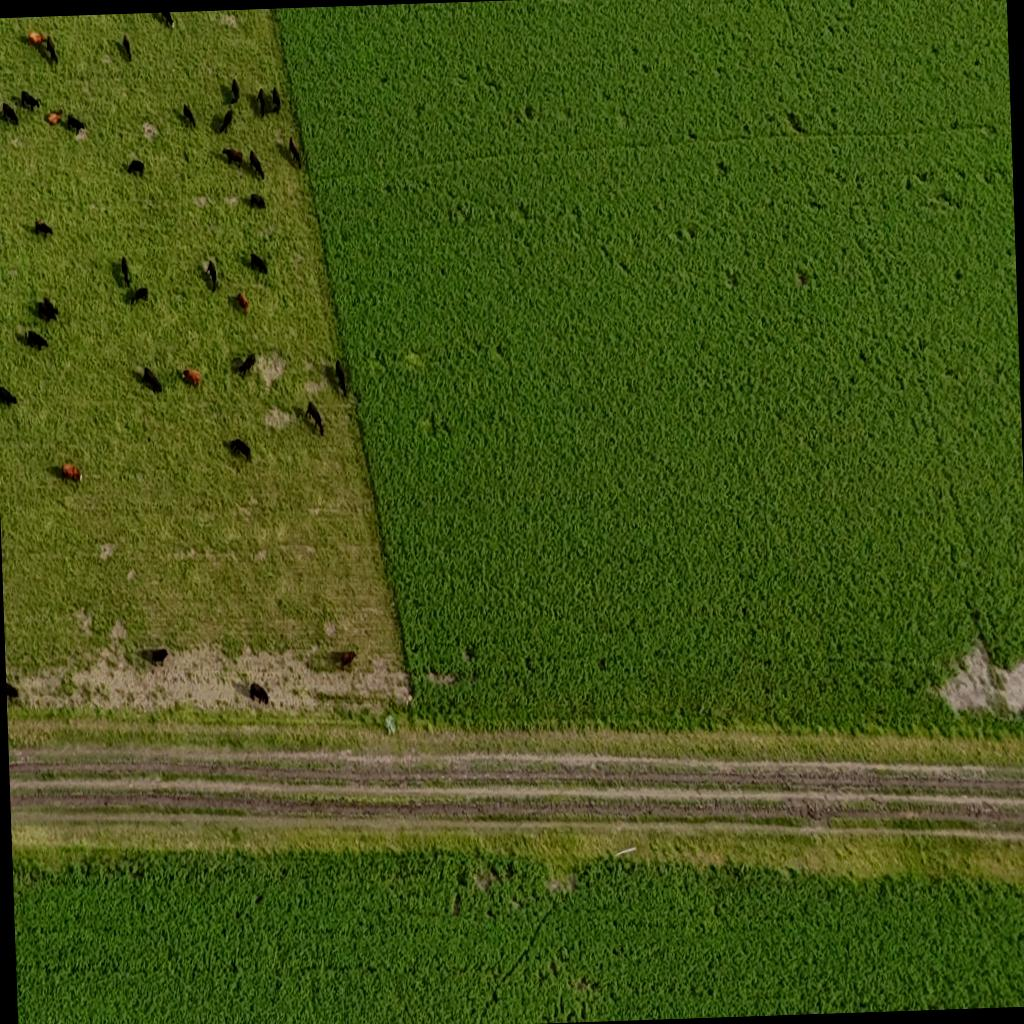cow: (304, 400, 324, 437), (140, 365, 162, 394), (60, 460, 82, 487), (227, 438, 251, 462), (234, 352, 256, 378), (36, 297, 58, 321), (20, 89, 42, 111), (248, 681, 268, 705), (248, 149, 264, 179), (334, 358, 346, 396), (0, 101, 18, 126), (204, 258, 217, 292), (26, 330, 48, 350), (26, 30, 46, 52), (66, 113, 86, 134), (44, 36, 58, 66), (288, 134, 301, 166), (180, 366, 200, 386), (128, 285, 148, 305), (151, 644, 168, 667), (250, 250, 266, 274), (120, 256, 132, 288), (34, 218, 53, 238), (222, 147, 242, 166), (0, 386, 18, 407), (219, 108, 233, 134), (338, 650, 356, 670), (182, 103, 196, 128), (126, 158, 144, 176), (46, 108, 64, 126), (6, 680, 20, 702), (249, 192, 265, 210), (234, 294, 248, 314), (257, 87, 266, 117), (230, 78, 240, 102), (272, 86, 280, 114), (160, 12, 174, 28), (122, 34, 130, 60)
